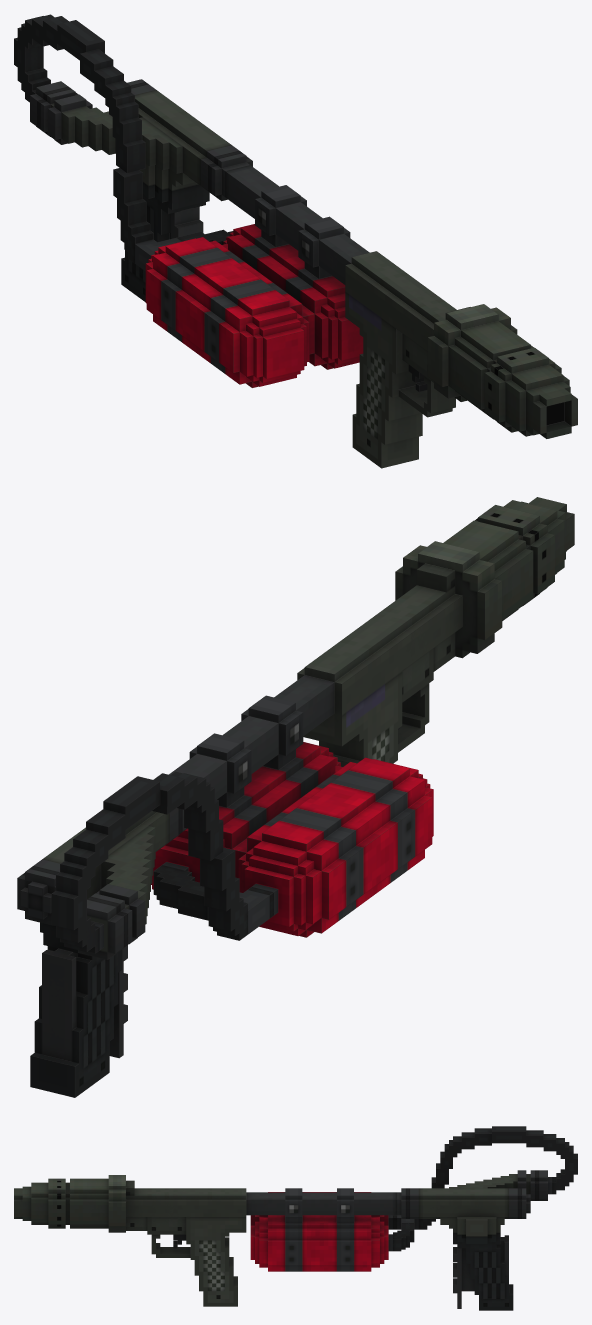
The model's file is RD_FLAMETHROWER.glb.
The picture shows the model from 3 angles, top to bottom: view 1: azimuth 30°, elevation 25°; view 2: azimuth 150°, elevation 25°; view 3: azimuth 270°, elevation 25°; orthographic projection. The views are drawn at different scales.
Visible parts, largest first — view 1: FLAMETHROWER; view 2: FLAMETHROWER; view 3: FLAMETHROWER.
Boxes of the visible parts, left/top/right/bottom form: FLAMETHROWER: left=14, top=14, right=577, bottom=468; FLAMETHROWER: left=17, top=497, right=574, bottom=1097; FLAMETHROWER: left=14, top=1126, right=577, bottom=1310.
Size of the model in its own units: 0.2362 by 0.3985 by 1.29.
Materials: 2 (2 with a texture image).
